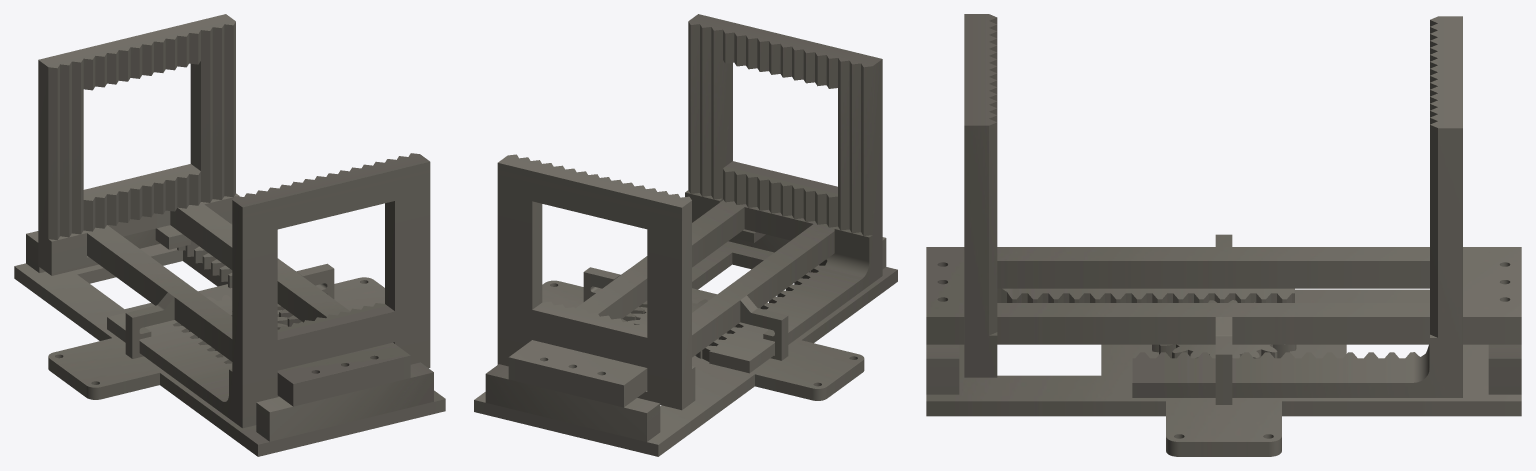
The model's file is end_effector_no_bricks.dae.
3 views of the same model, side by side, from view 1: azimuth 30°, elevation 25°; view 2: azimuth 150°, elevation 25°; view 3: azimuth 270°, elevation 25° (orthographic). The views are drawn at different scales.
Parts seen in each view (by area): view 1: Shape_IndexedFaceSet; view 2: Shape_IndexedFaceSet; view 3: Shape_IndexedFaceSet.
Boxes of the visible parts, x1,y1,x2,y2 form: Shape_IndexedFaceSet: [14, 14, 445, 456]; Shape_IndexedFaceSet: [474, 14, 897, 456]; Shape_IndexedFaceSet: [926, 14, 1521, 456].
Size of the model in its own units: 0.138 by 0.18 by 0.097.
Materials: 1 (1 with a texture image).
